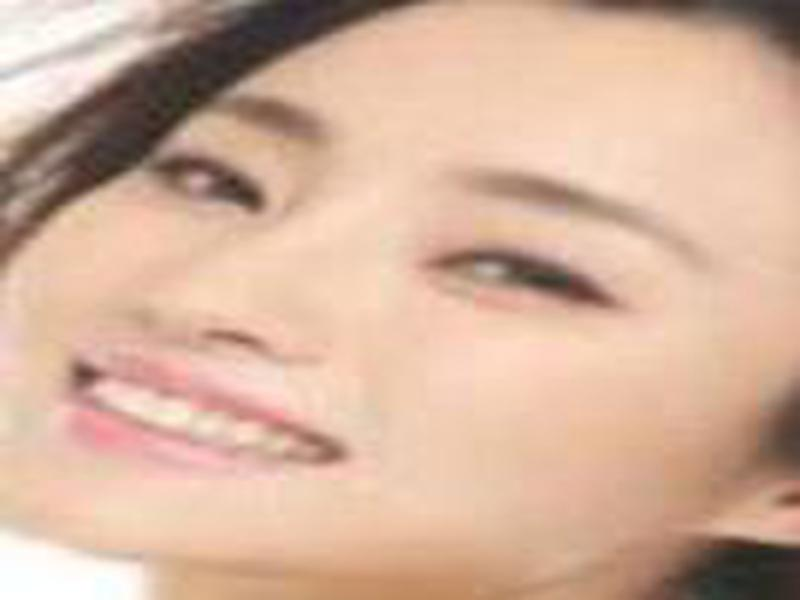without_mask: (6, 31, 772, 563)
